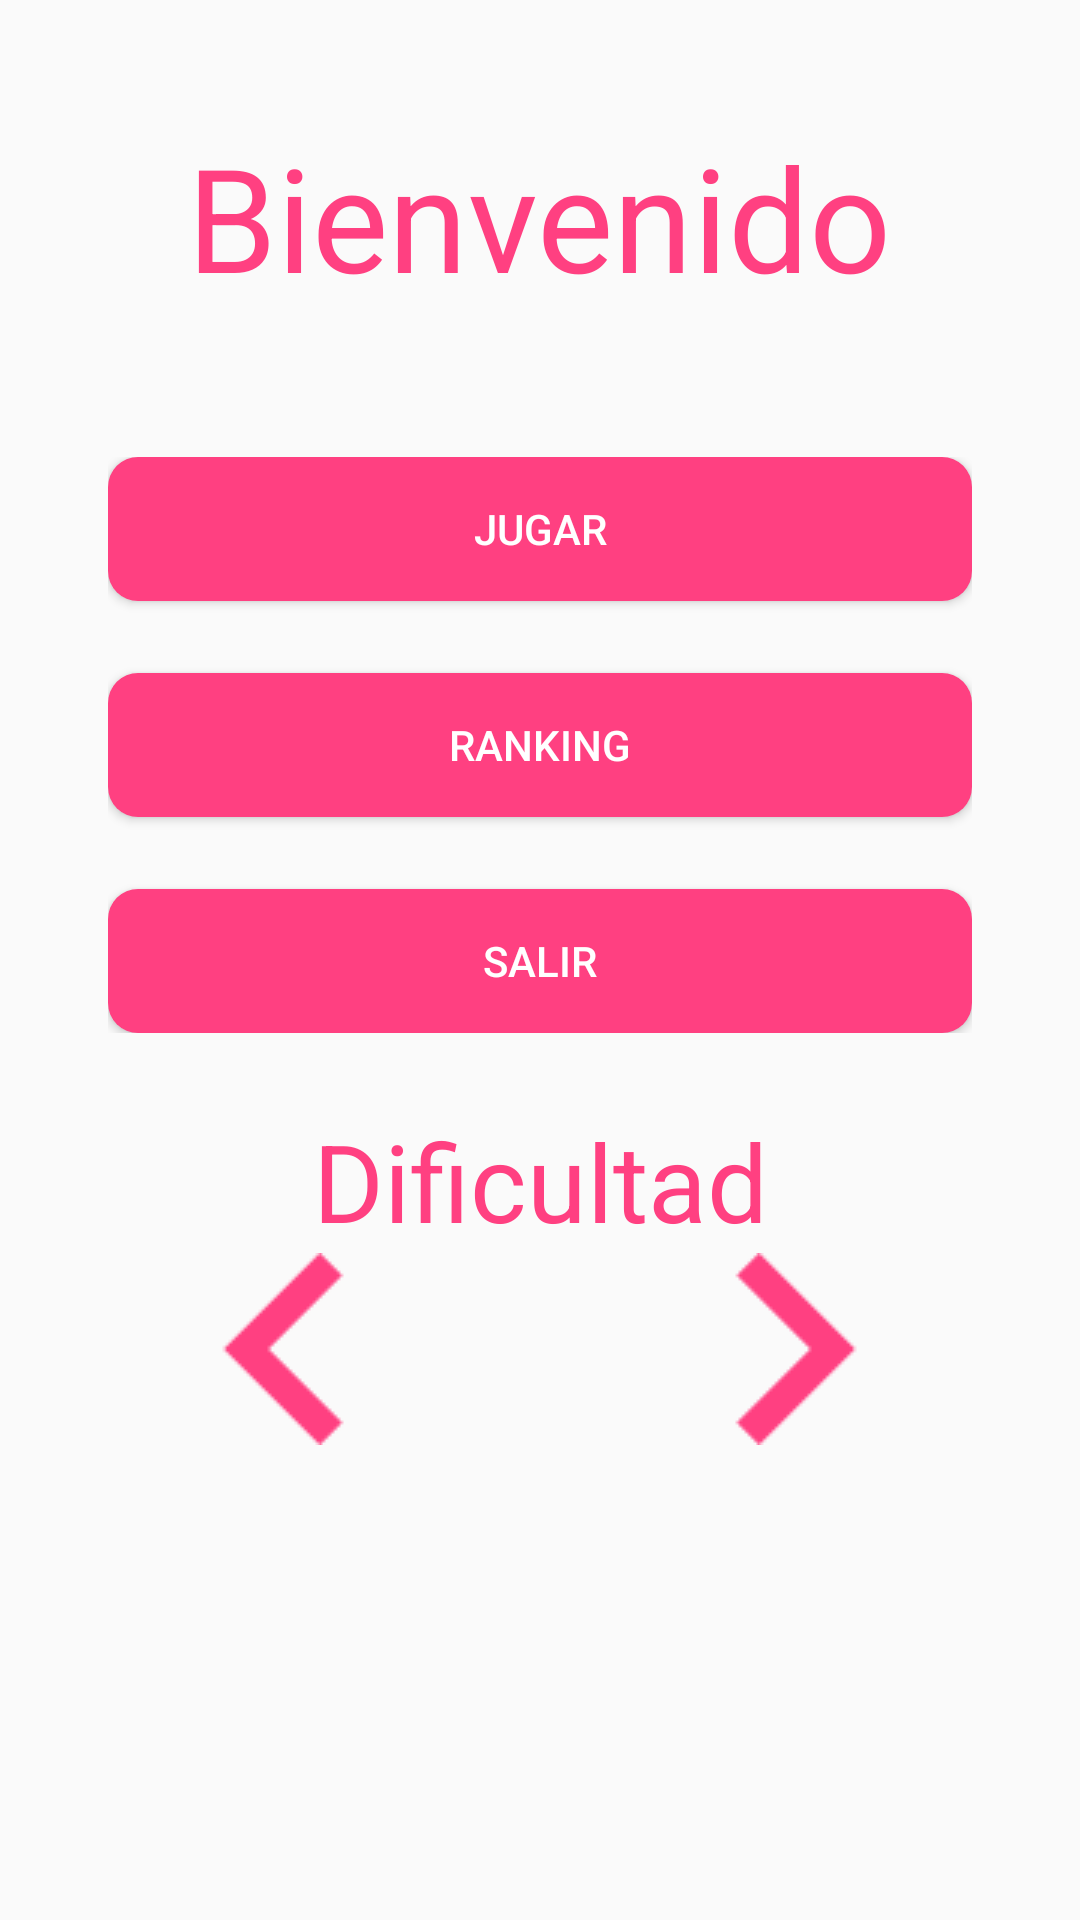

Screen size 1080w x 1920h. Icon name, then its box in pixels as (x1, y1, x2, y2):
larrow: (223, 1253, 344, 1445)
rarrow: (735, 1253, 856, 1445)
